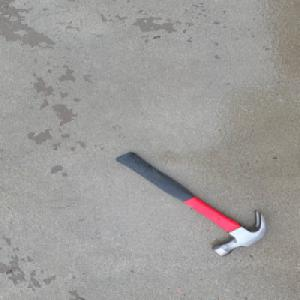Hammer: (114, 149, 267, 256)
